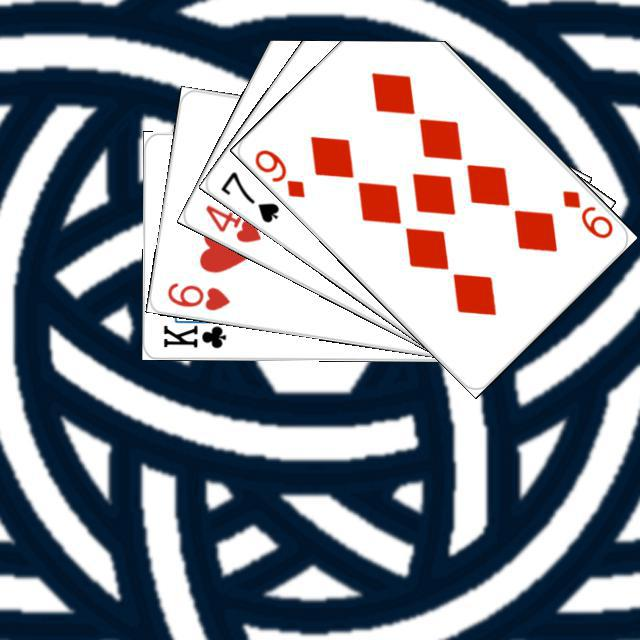4h: (200, 199, 263, 245)
6h: (162, 277, 232, 313)
7s: (215, 166, 282, 225)
9d: (249, 144, 307, 200), (557, 185, 615, 241)
Kc: (158, 314, 235, 350)
